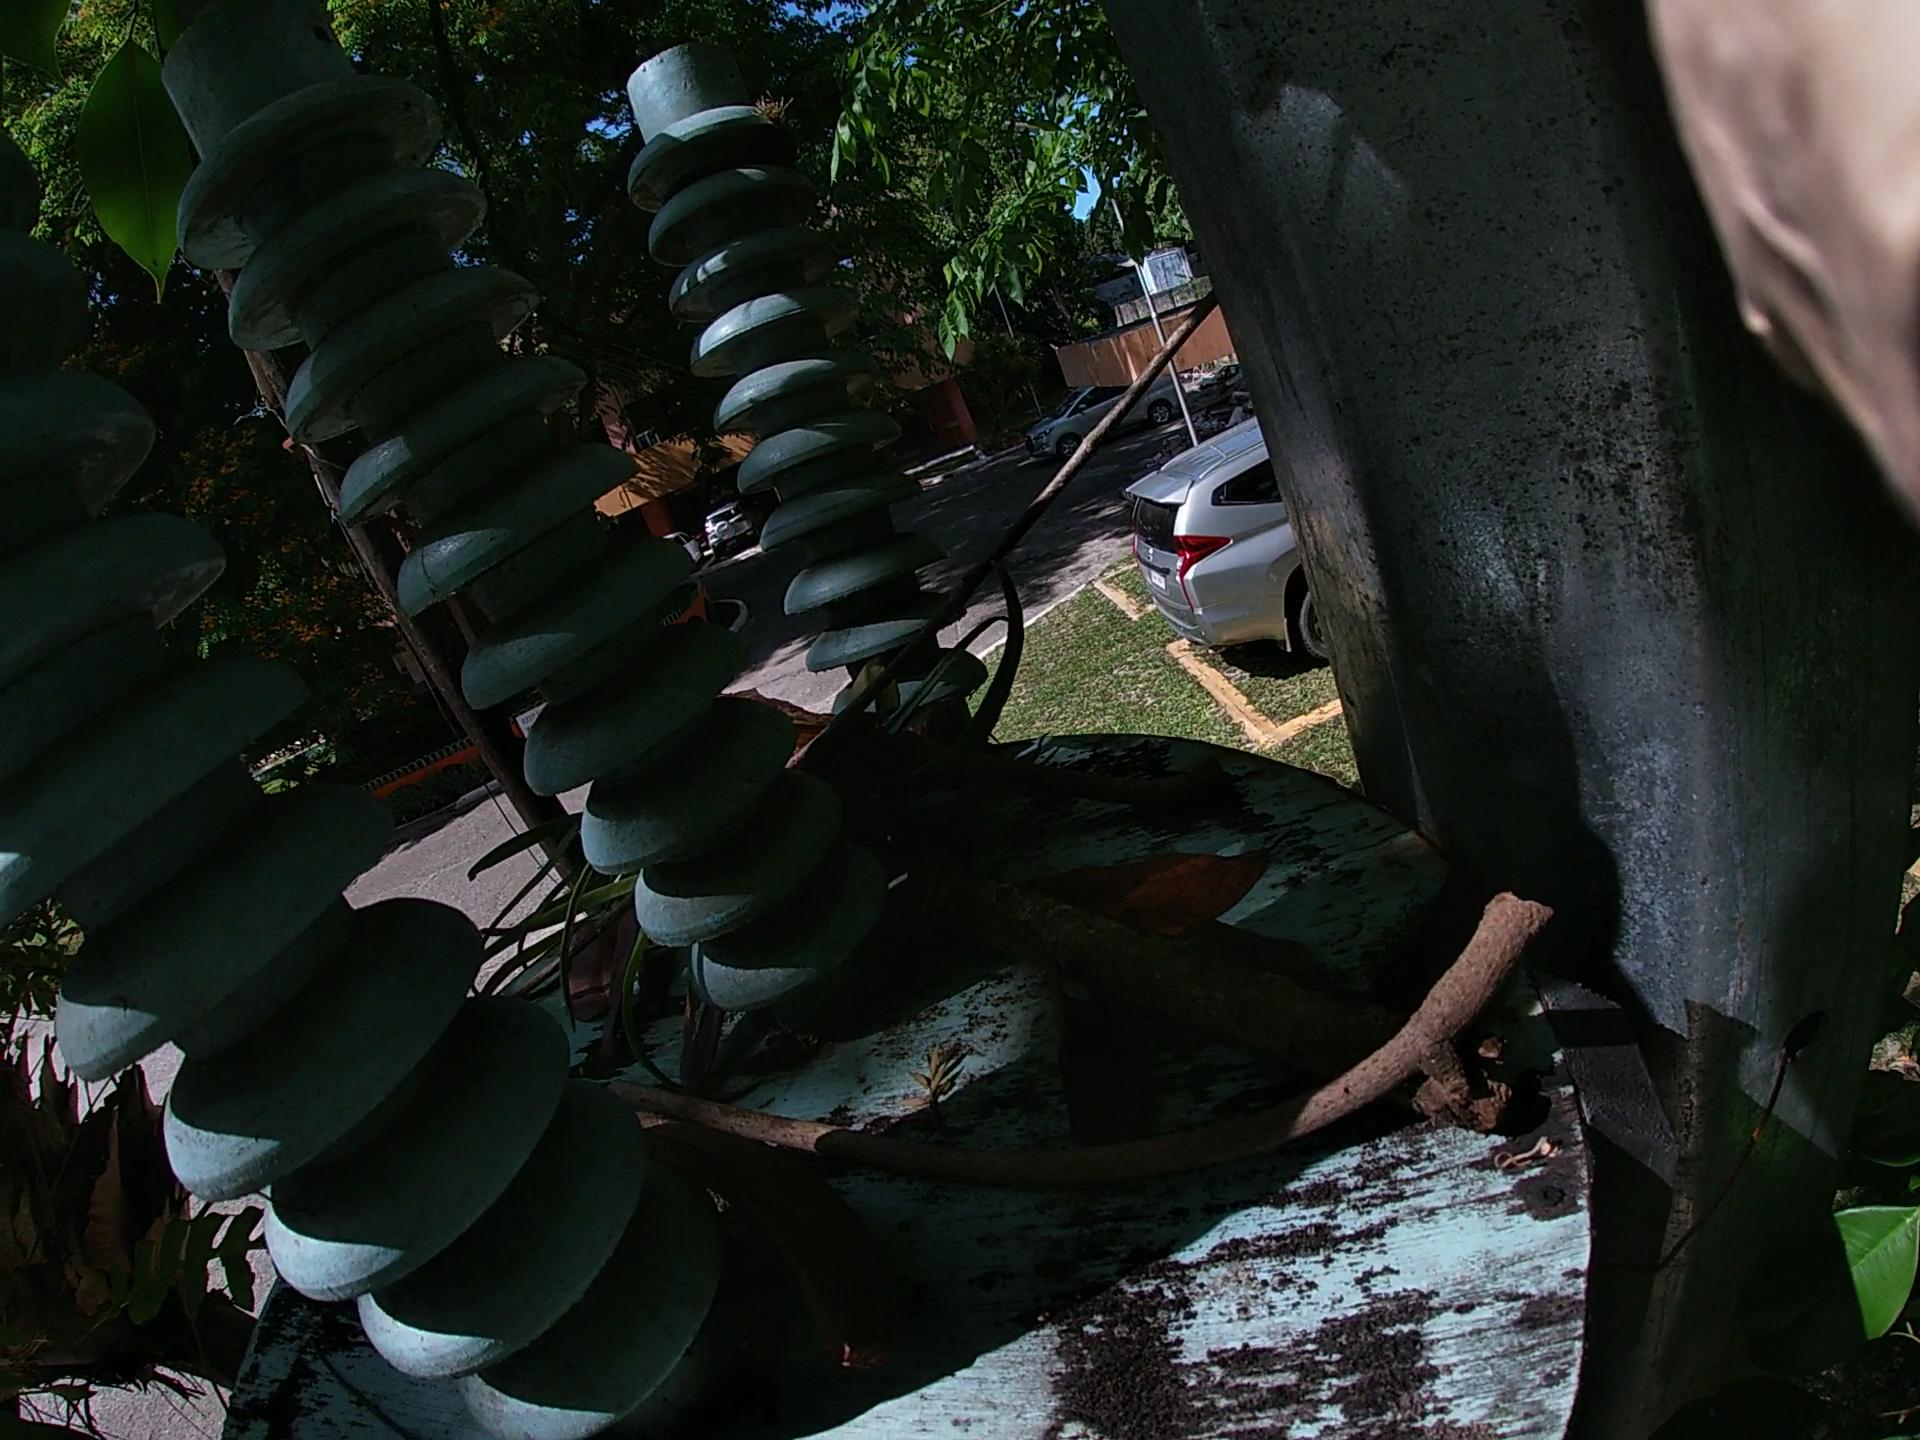branch with leaves: (425, 629, 1536, 1201)
leaf: (981, 793, 1250, 1153)
mahogany fruit: (605, 1023, 900, 1393), (683, 646, 872, 805)
tree branch: (723, 333, 1160, 858), (588, 1060, 1531, 1231)
